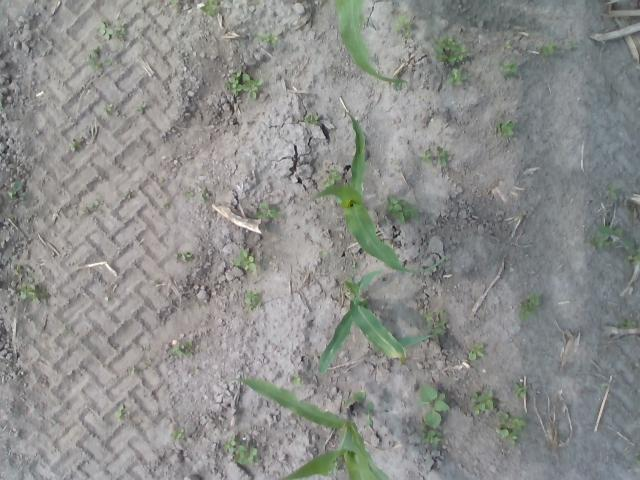Maize: (303, 96, 422, 272), (239, 376, 390, 478), (318, 270, 432, 374), (336, 1, 408, 84)
Weeds: (420, 387, 450, 428), (496, 412, 525, 444), (600, 224, 637, 248), (434, 36, 467, 60), (387, 198, 418, 222), (468, 389, 495, 414), (242, 72, 261, 98), (520, 295, 540, 319), (234, 250, 256, 271), (88, 52, 109, 70), (419, 428, 442, 444), (428, 316, 448, 334), (236, 445, 256, 463), (466, 343, 486, 360), (447, 68, 468, 84), (17, 282, 36, 299), (256, 204, 278, 218), (436, 146, 450, 166), (501, 61, 518, 75), (225, 78, 242, 92), (514, 382, 528, 399), (592, 232, 608, 246), (100, 24, 114, 40), (398, 14, 411, 30), (500, 121, 516, 134), (200, 1, 216, 13), (606, 185, 620, 198), (245, 290, 258, 304), (174, 253, 194, 261), (116, 405, 126, 420), (326, 173, 342, 182), (226, 440, 238, 452), (115, 21, 126, 34), (172, 428, 185, 439), (544, 44, 556, 55), (422, 148, 432, 161), (264, 32, 278, 41), (294, 376, 304, 386), (15, 264, 24, 274), (306, 116, 320, 122), (15, 181, 24, 190), (138, 102, 148, 110), (70, 139, 76, 152), (172, 346, 180, 354), (125, 190, 132, 198), (188, 188, 195, 196)
